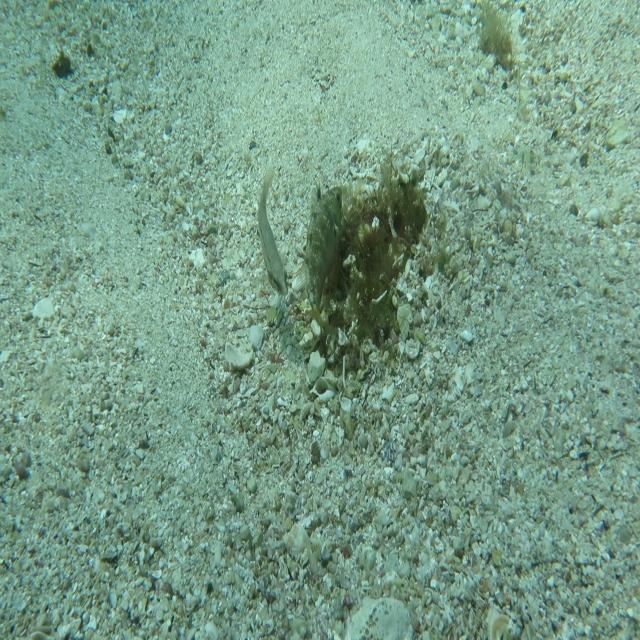BEND_OPP: (292, 178, 344, 334)
female: (254, 160, 290, 299)
nest: (308, 158, 440, 377)
